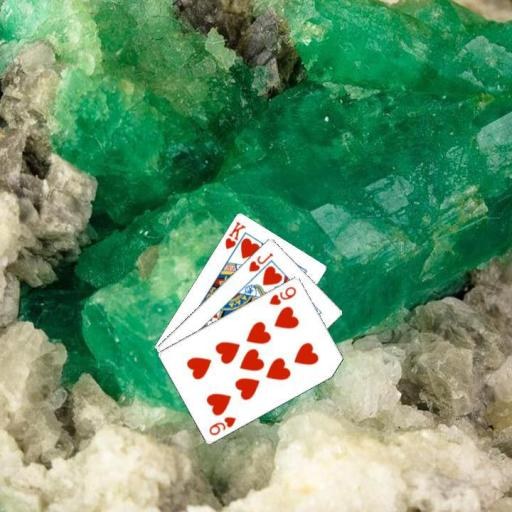9H: (266, 283, 298, 307), (206, 413, 238, 437)
JH: (246, 249, 275, 273)
KH: (222, 218, 247, 250)
